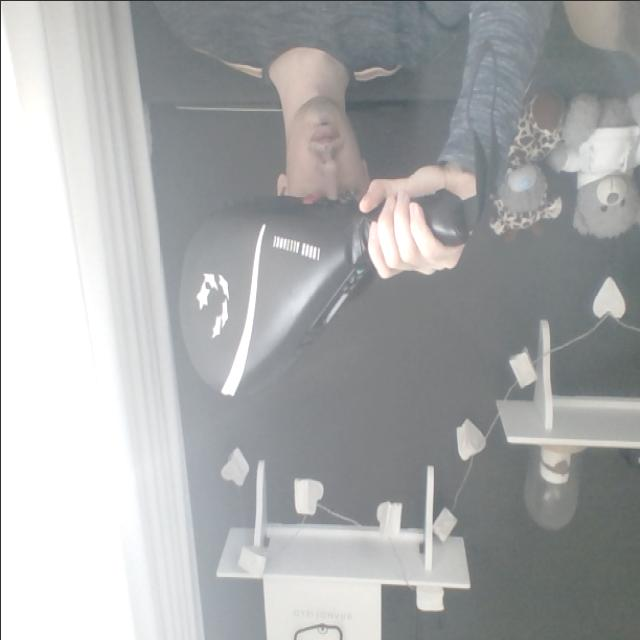paddle: (176, 189, 460, 407)
